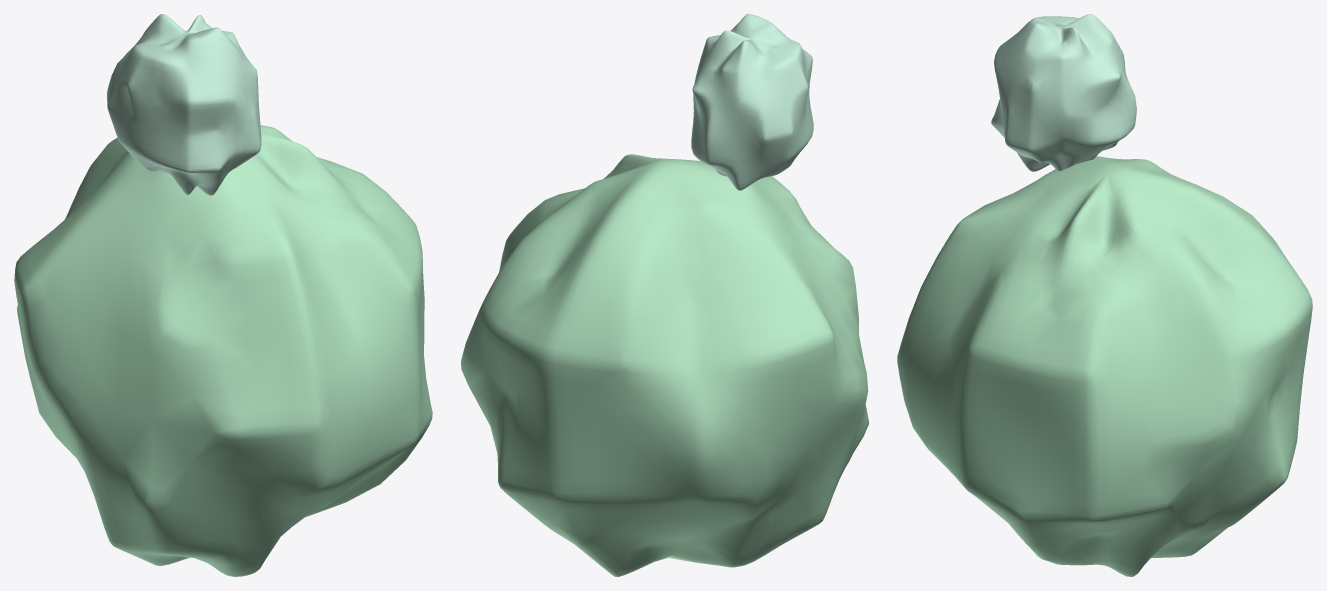
The model's file is PROP_Bush_v0.glb.
3 views of the same model, side by side, from view 1: azimuth 30°, elevation 25°; view 2: azimuth 150°, elevation 25°; view 3: azimuth 270°, elevation 25° (orthographic). The views are drawn at different scales.
Visible parts, largest first — view 1: PROP_Bush_v0; view 2: PROP_Bush_v0; view 3: PROP_Bush_v0.
Boxes of the visible parts, bbox=[...] form: PROP_Bush_v0: bbox=[14, 14, 432, 576]; PROP_Bush_v0: bbox=[461, 14, 868, 576]; PROP_Bush_v0: bbox=[897, 14, 1312, 576].
Size of the model in its own units: 1.42 by 2.01 by 1.47.
